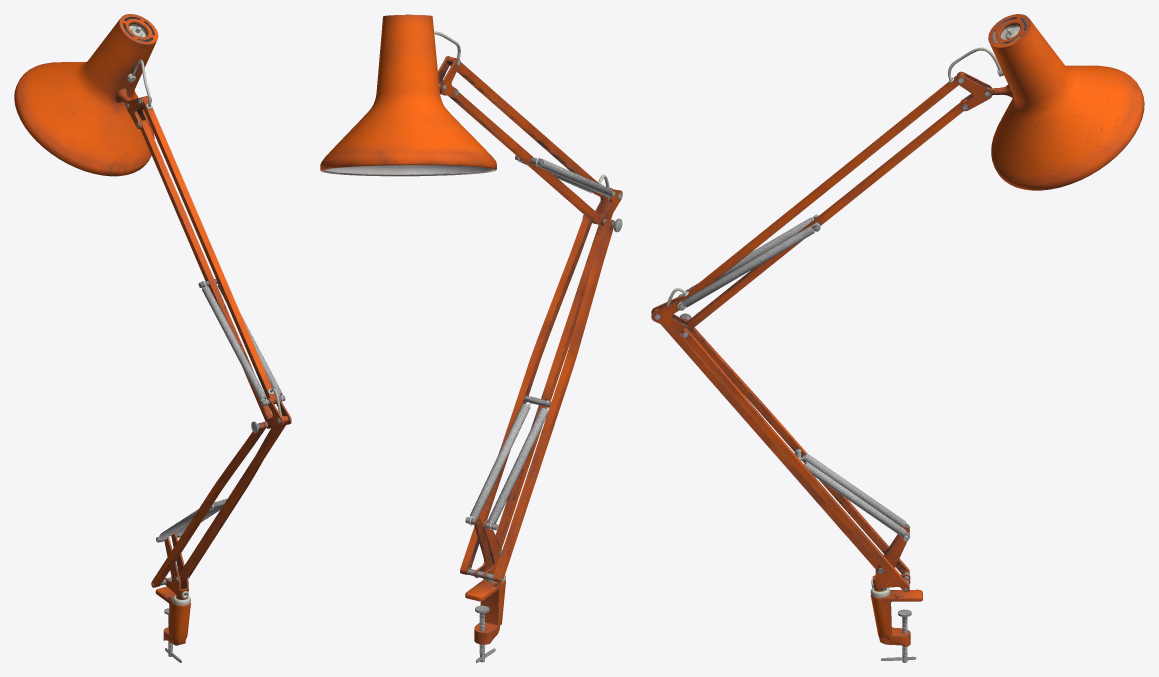
File: desk-lamp-01.glb
3 renders of one model, left to right at view 1: azimuth 30°, elevation 25°; view 2: azimuth 150°, elevation 25°; view 3: azimuth 270°, elevation 25°, orthographic. The views are drawn at different scales.
Parts seen in each view (by area): view 1: desk_lamp_arm_01; view 2: desk_lamp_arm_01; view 3: desk_lamp_arm_01.
Part boxes in pixels (x1,y1,x2,y2): desk_lamp_arm_01: (14, 14, 291, 662); desk_lamp_arm_01: (320, 14, 622, 662); desk_lamp_arm_01: (651, 14, 1144, 662).
Size of the model in its own units: 0.2017 by 0.8926 by 0.6139.
2 materials, 2 textured.
